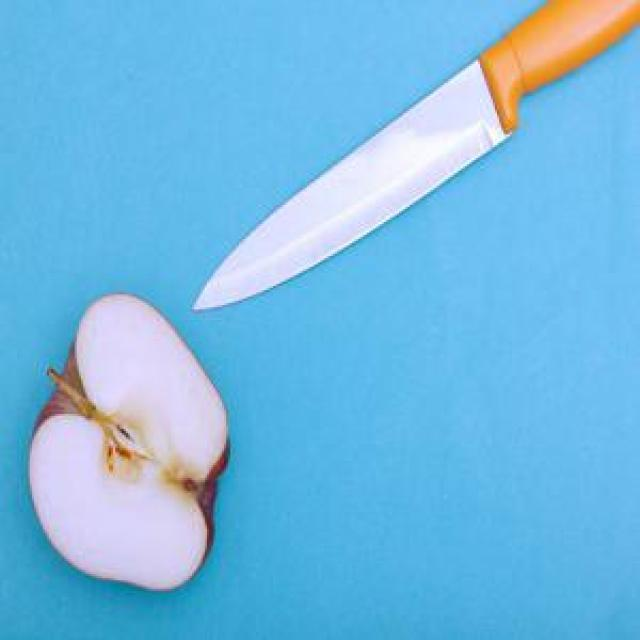knife: (194, 0, 638, 314)
